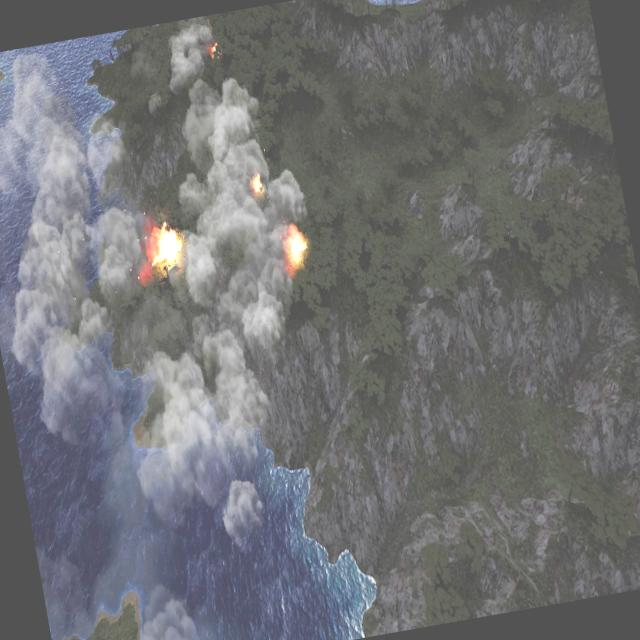fire: (136, 219, 192, 286), (278, 222, 312, 278), (245, 167, 266, 200), (206, 38, 219, 59)
smoke: (0, 3, 362, 573), (130, 572, 204, 640)
